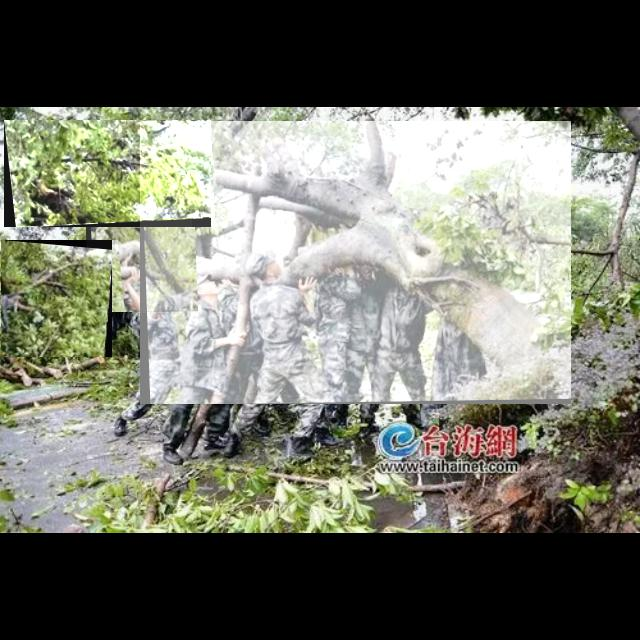Fallen Tree: (140, 121, 572, 405), (4, 120, 212, 228), (86, 179, 192, 313), (1, 240, 113, 358)
